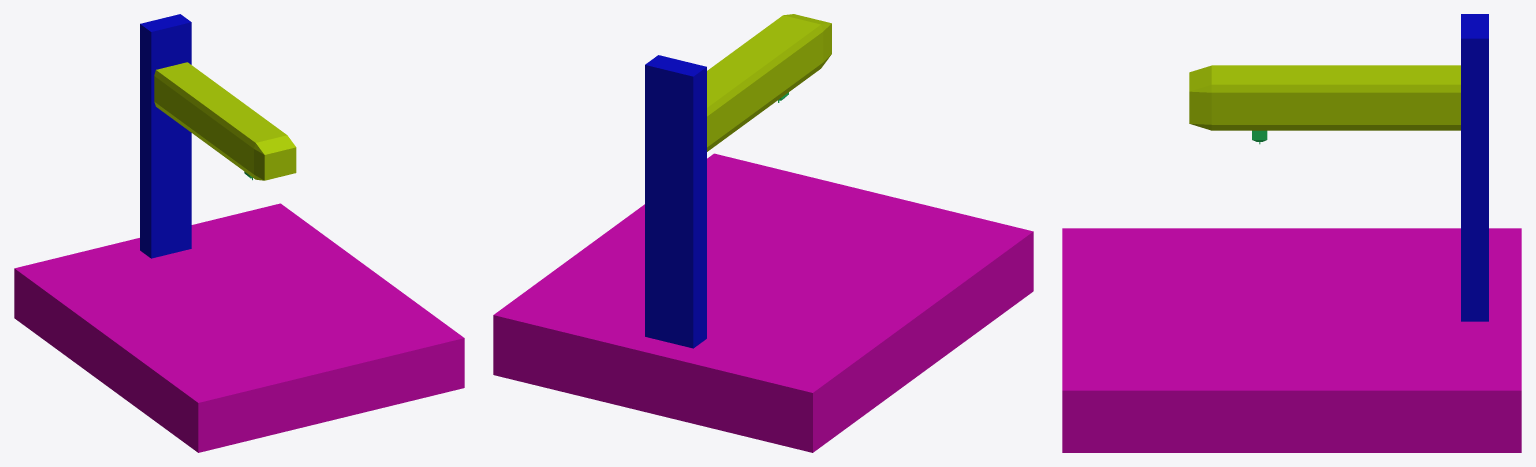
3 views of the same model, side by side, from view 1: azimuth 30°, elevation 25°; view 2: azimuth 150°, elevation 25°; view 3: azimuth 270°, elevation 25° (orthographic). The views are drawn at different scales.
Visible parts, largest first — view 1: Стамина, Балка, Голова; view 2: Стамина, Балка, Голова; view 3: Стамина, Голова, Балка.
Part boxes in pixels (left/top/right/bottom): Стамина: left=14, top=203, right=464, bottom=452; Балка: left=140, top=14, right=191, bottom=258; Голова: left=154, top=62, right=296, bottom=180; Стамина: left=493, top=153, right=1033, bottom=452; Балка: left=645, top=55, right=706, bottom=348; Голова: left=707, top=14, right=831, bottom=151; Стамина: left=1062, top=228, right=1521, bottom=452; Голова: left=1189, top=65, right=1460, bottom=130; Балка: left=1461, top=14, right=1488, bottom=321.
Size of the model in its own units: 3.69 by 3.66 by 4.42.
